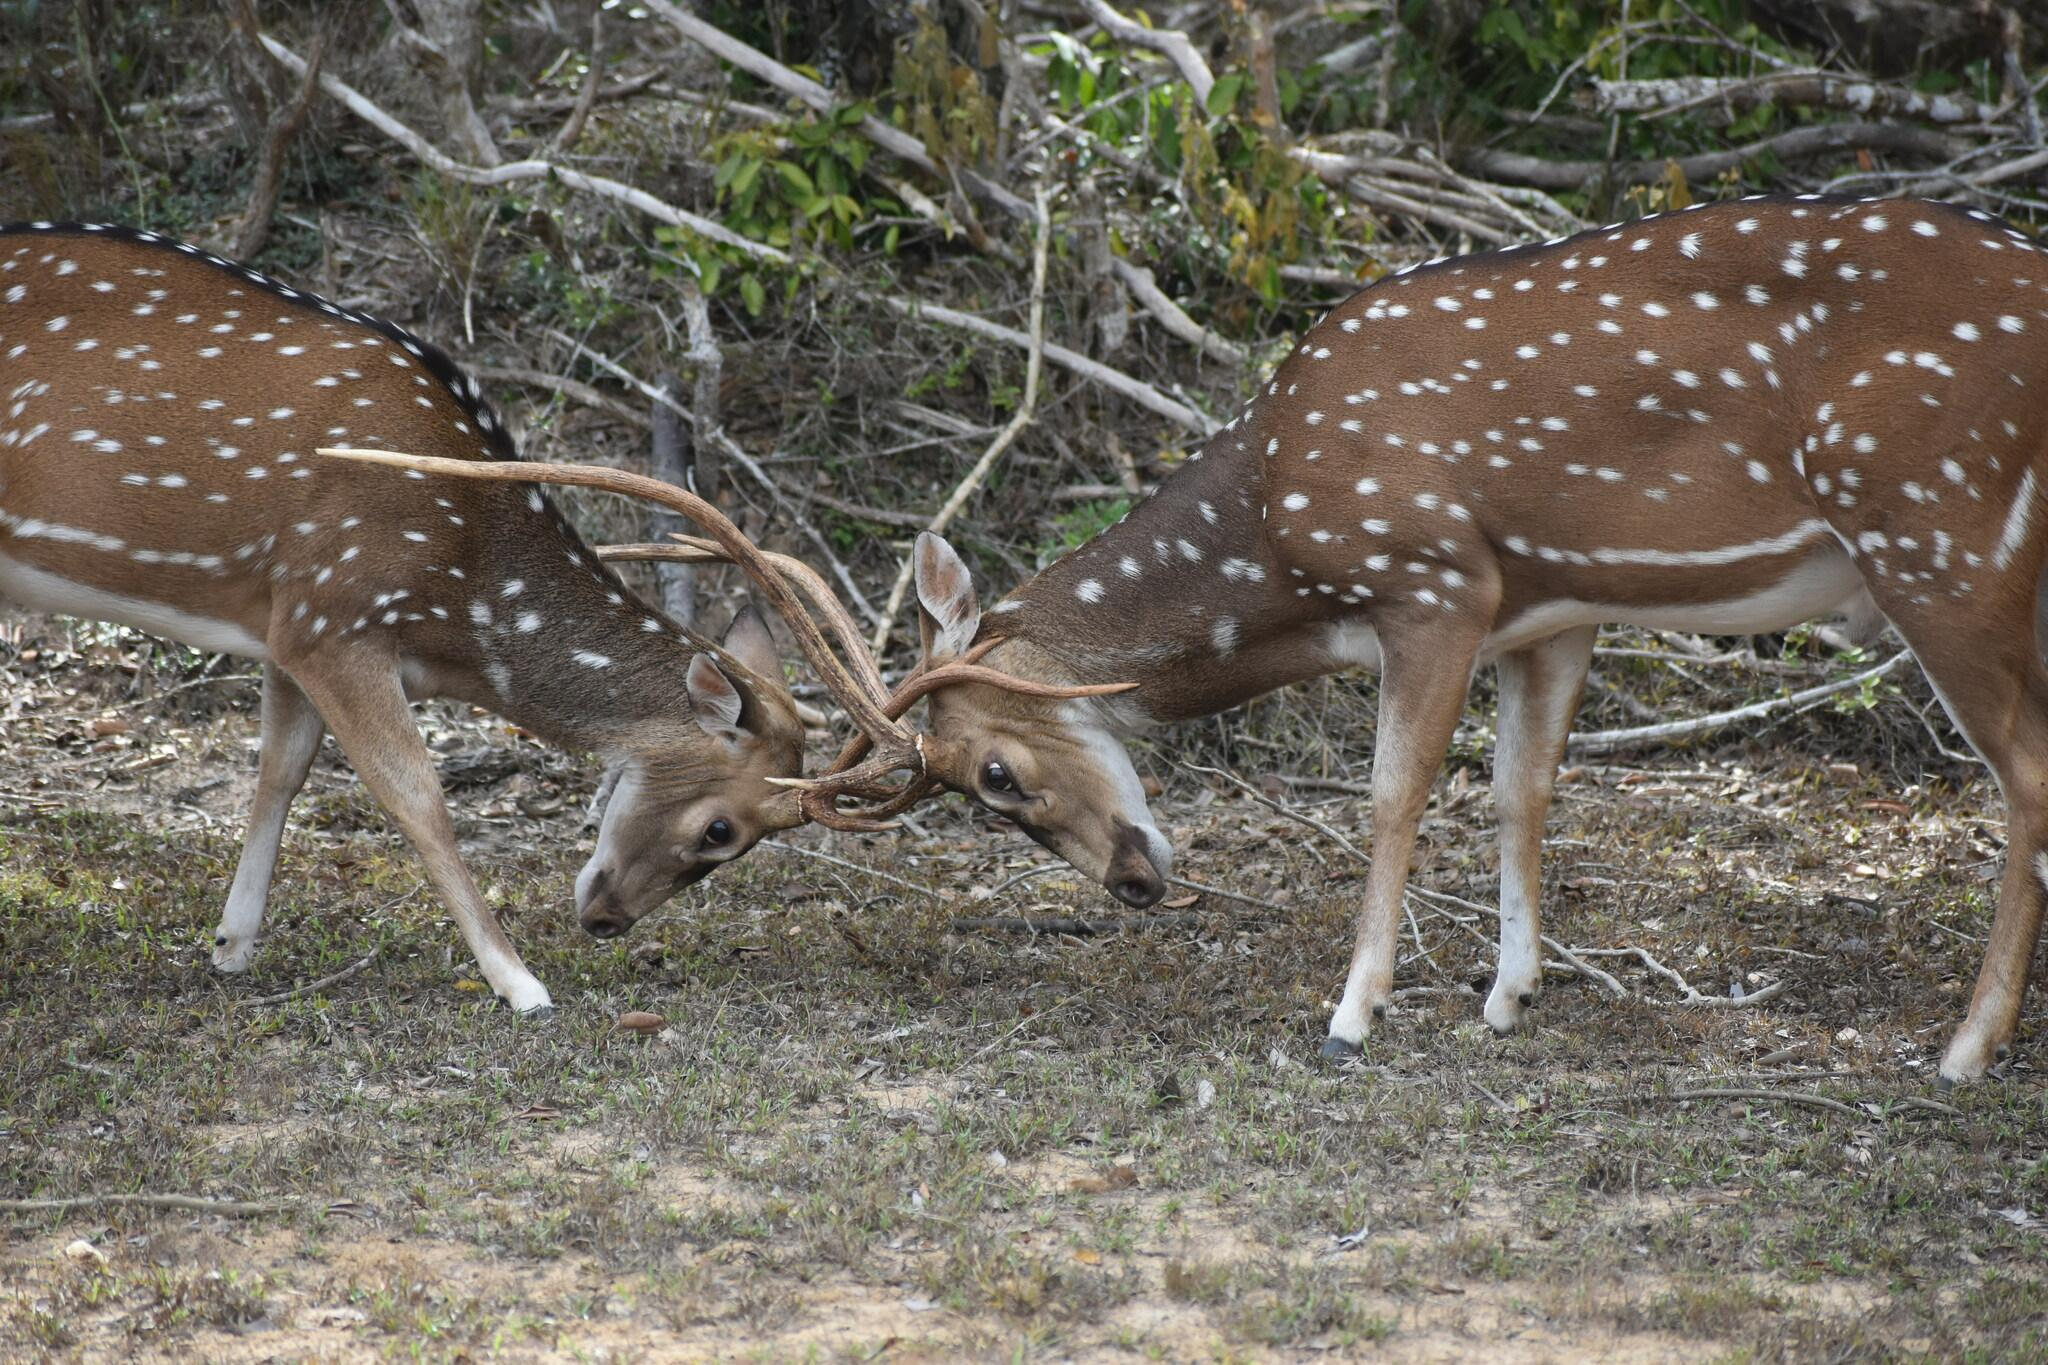Deer: (914, 197, 2046, 1082)
